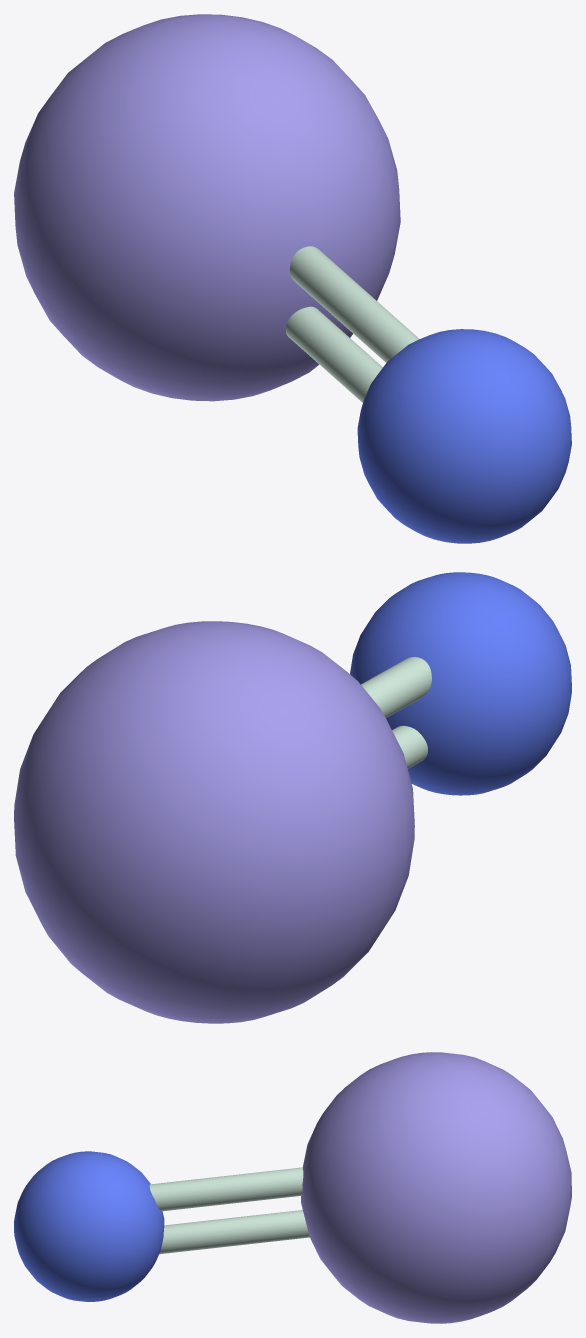
Rendered from compoundModel3.glb.
The picture shows the model from 3 angles, top to bottom: view 1: azimuth 30°, elevation 25°; view 2: azimuth 150°, elevation 25°; view 3: azimuth 270°, elevation 25°; orthographic projection. The views are drawn at different scales.
Visible parts, largest first — view 1: Sphere, Sphere.001, Cylinder, Cylinder.001; view 2: Sphere, Sphere.001, Cylinder, Cylinder.001; view 3: Sphere, Sphere.001, Cylinder, Cylinder.001.
Part boxes in pixels (bbox=[...]): Sphere: bbox=[14, 14, 400, 401]; Sphere.001: bbox=[357, 329, 571, 543]; Cylinder: bbox=[289, 246, 419, 362]; Cylinder.001: bbox=[285, 306, 382, 402]; Sphere: bbox=[14, 621, 414, 1023]; Sphere.001: bbox=[350, 572, 571, 795]; Cylinder: bbox=[361, 657, 431, 717]; Cylinder.001: bbox=[392, 725, 427, 768]; Sphere: bbox=[301, 1052, 571, 1323]; Sphere.001: bbox=[14, 1151, 164, 1301]; Cylinder: bbox=[149, 1167, 303, 1211]; Cylinder.001: bbox=[159, 1210, 309, 1254].
Bounding box in the file's own units: 7.45 × 7.43 × 15.27.
